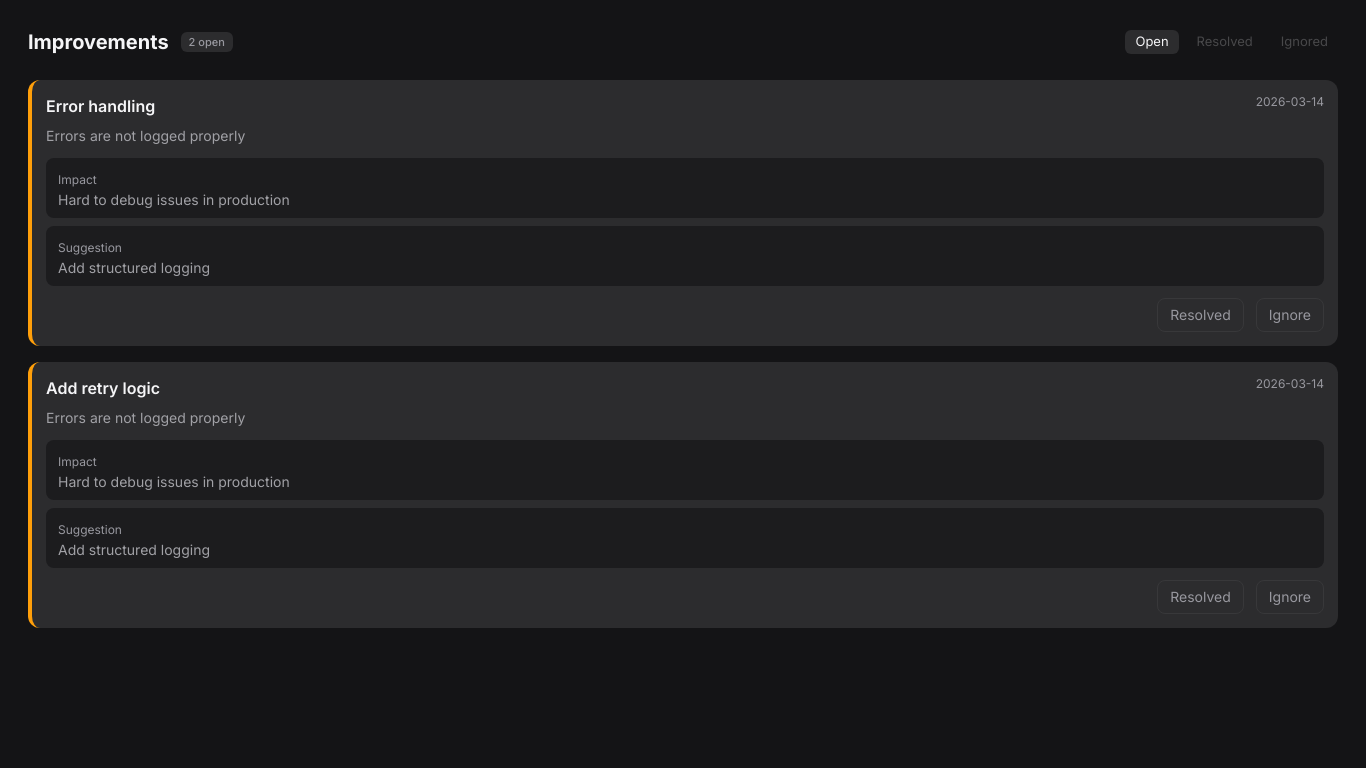
Scenario: Ameliorations page › clicking "Resolved" filter shows only resolved ameliorations
// Click the filter tab (first occurrence, in the filter bar)
What coordinates should you click on to do the following:
click the button "Resolved" in the row of "2 open"
I would click on:
 (1225, 42)
Its box is [1187, 30, 1263, 54].
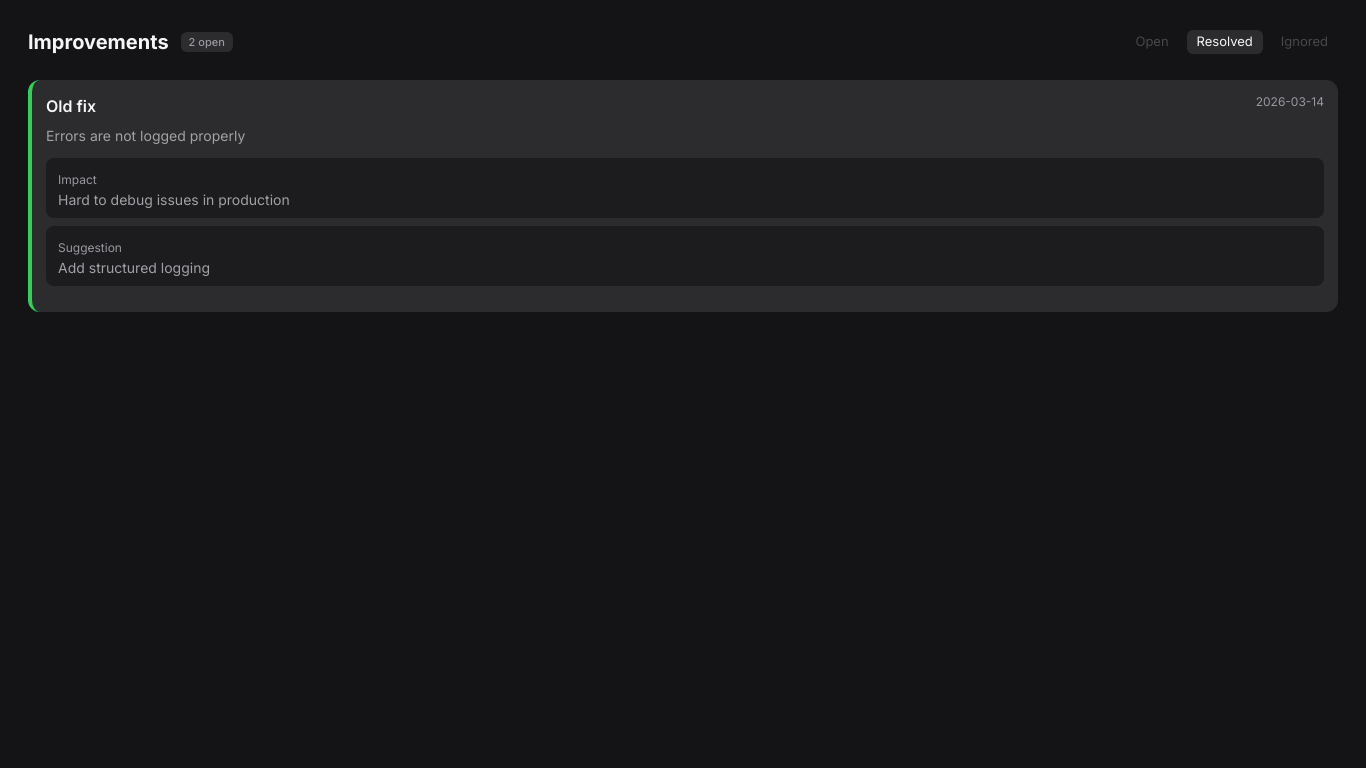
expect the heading "Old fix" is shown: met, box [46, 94, 96, 118]
expect the heading "Error handling" is gone: met
expect the heading "Add retry logic" is gone: met
